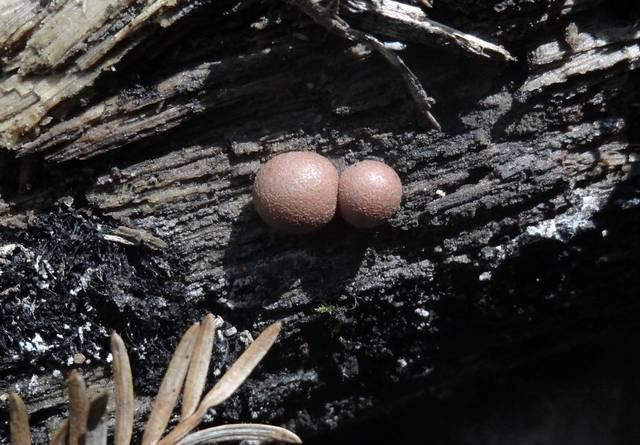poisonous_mushroom: (251, 149, 338, 234), (338, 158, 402, 228)
